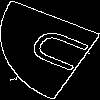U: (25, 25, 100, 80)
